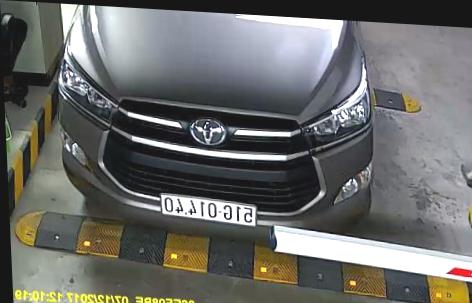License_Plate: (155, 188, 261, 228)
